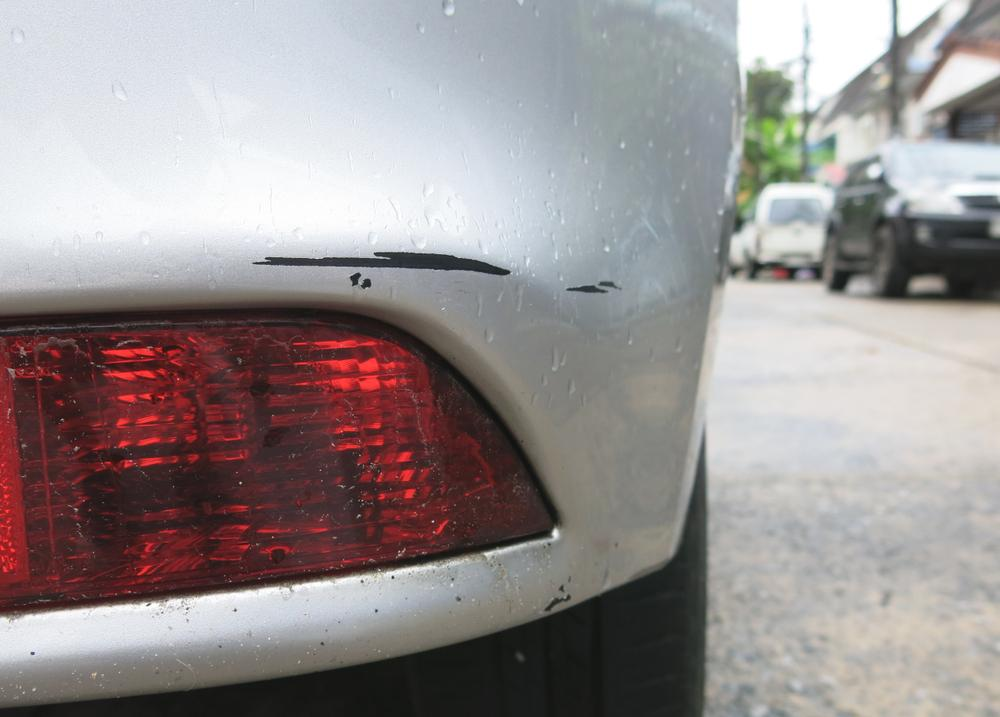scratch: (243, 248, 625, 298)
